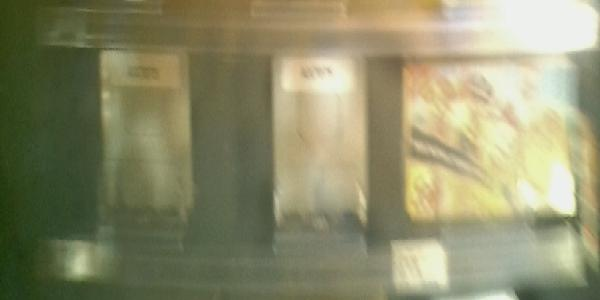icecream: (405, 58, 576, 219)
